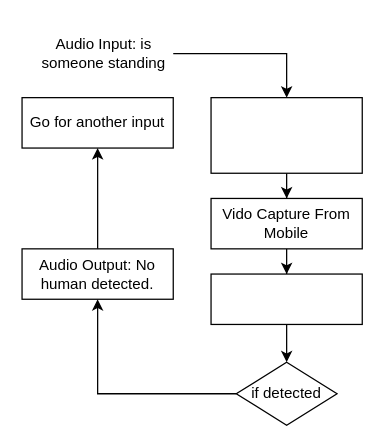
Image size: 384x447. Some labels were removed from this diagram. Each missing label, with the centre of its shape:
Detection of human: the point at 286,298
Speech to text conversion: is someone standing: the point at 286,134
